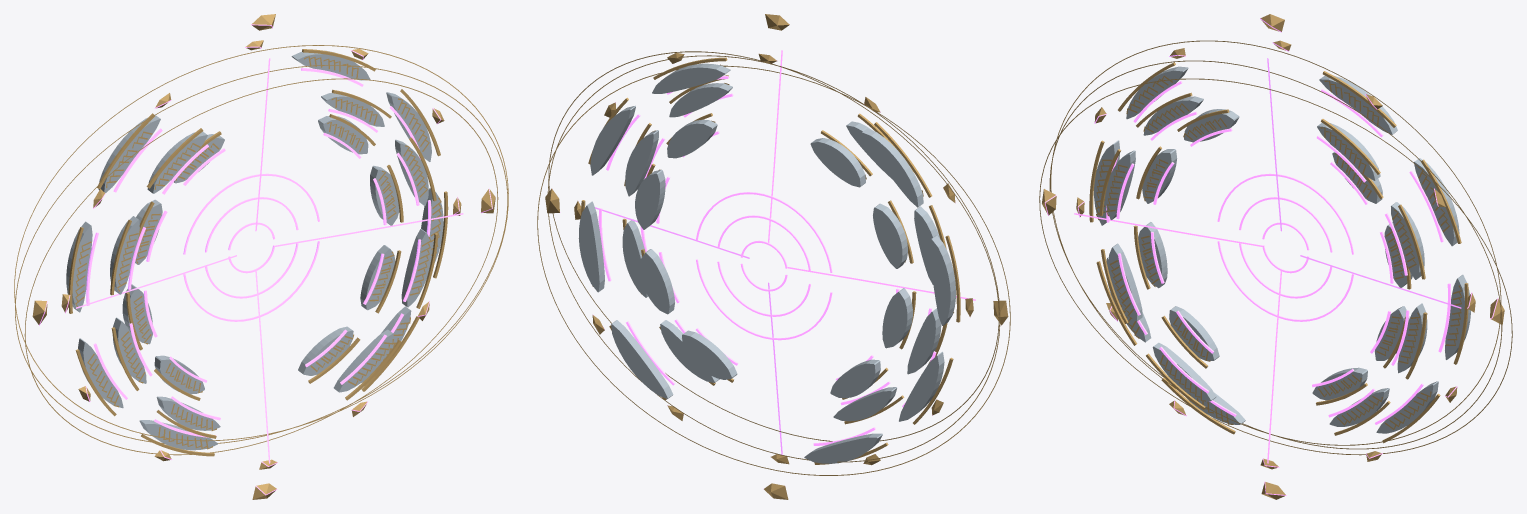
File: dao-gate.glb
3 renders of one model, left to right at view 1: azimuth 30°, elevation 25°; view 2: azimuth 150°, elevation 25°; view 3: azimuth 330°, elevation 25°, orthographic.
Visible parts, largest first — view 1: dao-gate_silver, dao-gate_gold, dao-gate_energy; view 2: dao-gate_silver, dao-gate_gold, dao-gate_energy; view 3: dao-gate_silver, dao-gate_gold, dao-gate_energy.
Boxes of the visible parts, box(x1,y1,x2,y2) form: dao-gate_silver: box(66, 50, 443, 450); dao-gate_gold: box(14, 14, 508, 499); dao-gate_energy: box(39, 24, 492, 495); dao-gate_silver: box(578, 63, 955, 463); dao-gate_gold: box(537, 14, 1010, 499); dao-gate_energy: box(560, 50, 975, 488); dao-gate_silver: box(1094, 66, 1470, 433); dao-gate_gold: box(1039, 14, 1512, 499); dao-gate_energy: box(1044, 18, 1498, 495).
Bounding box in the file's own units: 5.01 × 4.91 × 0.469.
